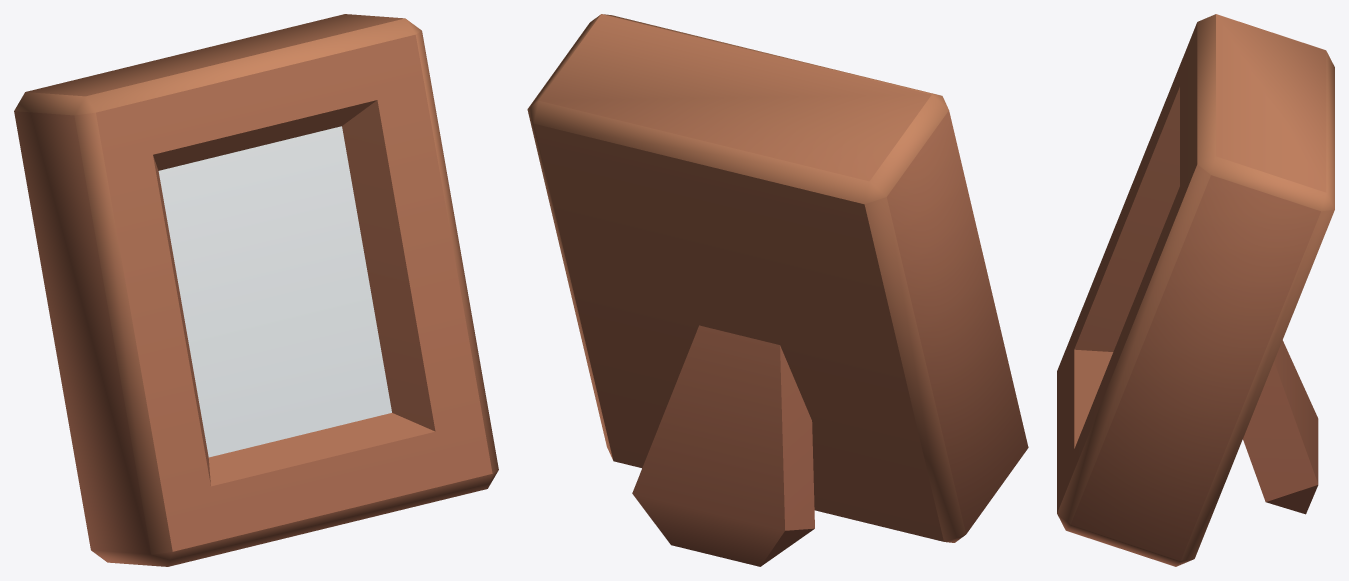
3 views of the same model, side by side, from view 1: azimuth 30°, elevation 25°; view 2: azimuth 150°, elevation 25°; view 3: azimuth 270°, elevation 25° (orthographic). The views are drawn at different scales.
Visible parts, largest first — view 1: pictureframe_standing_A; view 2: pictureframe_standing_A; view 3: pictureframe_standing_A.
Part boxes in pixels (x1=…): pictureframe_standing_A: x1=14, y1=14, x2=498, y2=566; pictureframe_standing_A: x1=527, y1=14, x2=1028, y2=566; pictureframe_standing_A: x1=1057, y1=14, x2=1334, y2=566.
Bounding box in the file's own units: 0.5 × 0.6185 × 0.3795.
1 material, 1 textured.
